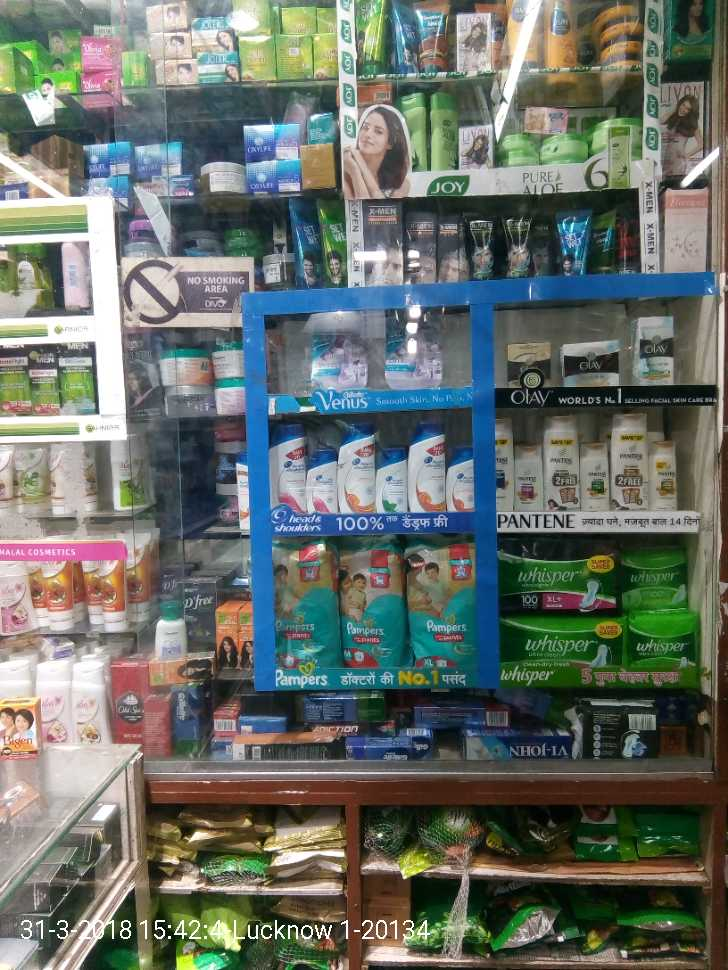venus: (385, 308, 443, 390), (310, 307, 366, 390)
